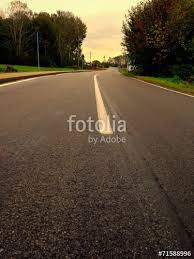strada: (0, 32, 194, 256)
